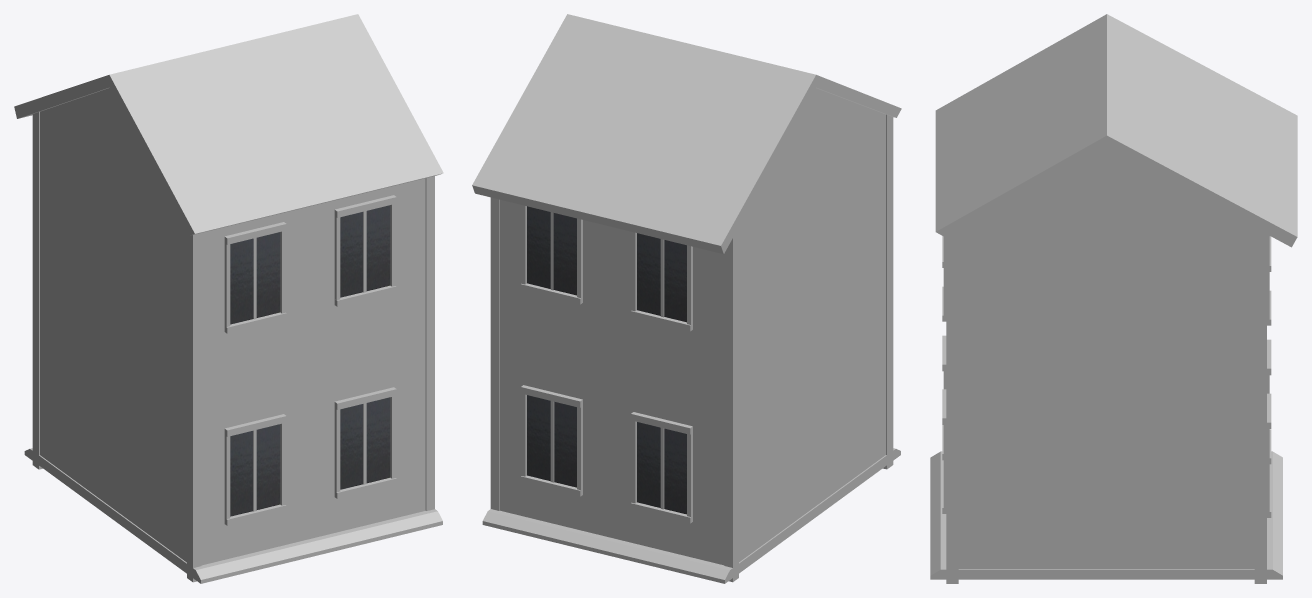
Rendered from apart_poor_01a.fbx.
The picture shows the model from 3 angles, left to right: view 1: azimuth 30°, elevation 25°; view 2: azimuth 150°, elevation 25°; view 3: azimuth 270°, elevation 25°; orthographic projection.
Parts seen in each view (by area): view 1: apart_poor_01a; view 2: apart_poor_01a; view 3: apart_poor_01a.
Boxes of the visible parts, x1,y1,x2,y2 form: apart_poor_01a: [14, 14, 443, 583]; apart_poor_01a: [472, 14, 901, 583]; apart_poor_01a: [930, 14, 1297, 583].
Bounding box in the file's own units: 4.18 × 7.22 × 5.34.
